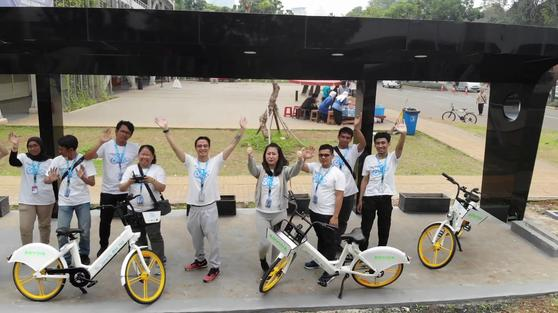bike: (9, 194, 175, 312), (253, 206, 414, 300), (415, 171, 488, 272)
